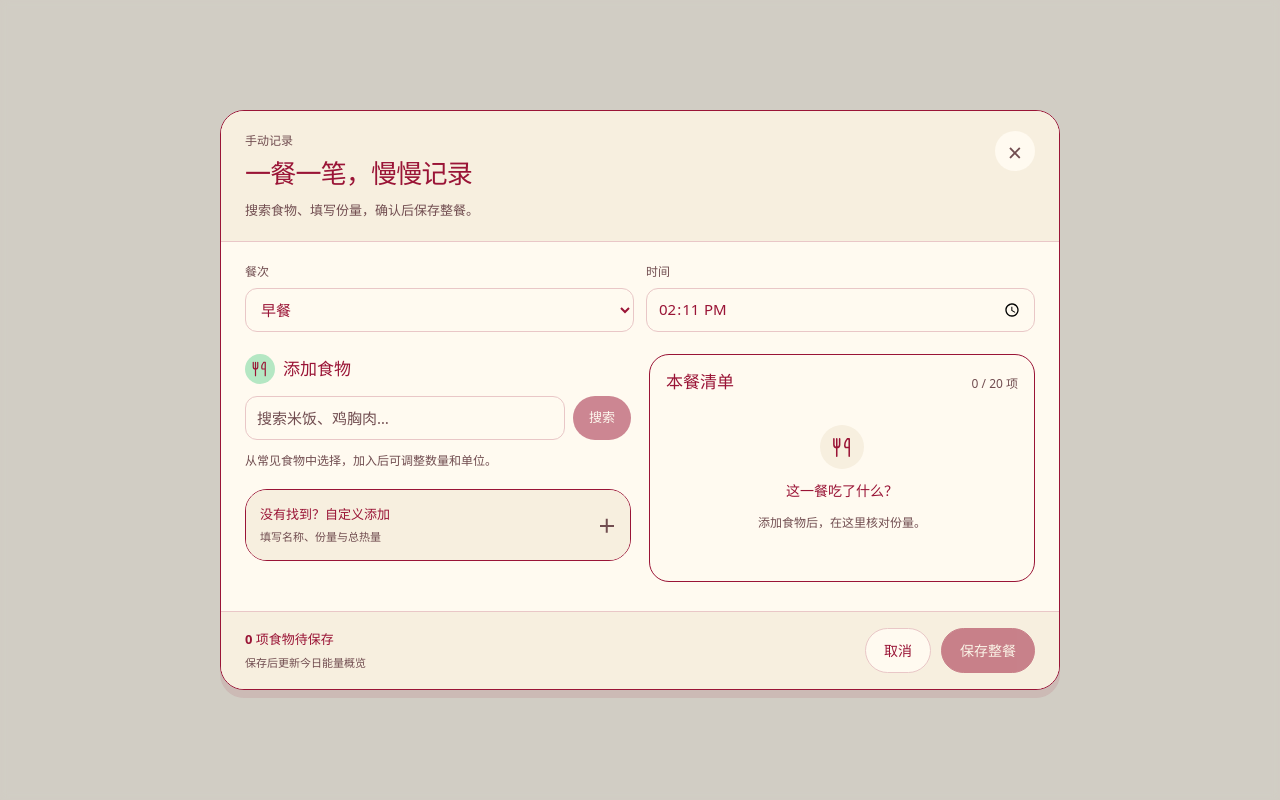
Test: ignores stale food searches and distinguishes no results from a failed search
In the field with placeholder "搜索米饭、鸡胸肉…": (405, 418) 245,396 -> 565,440, type "旧名称"
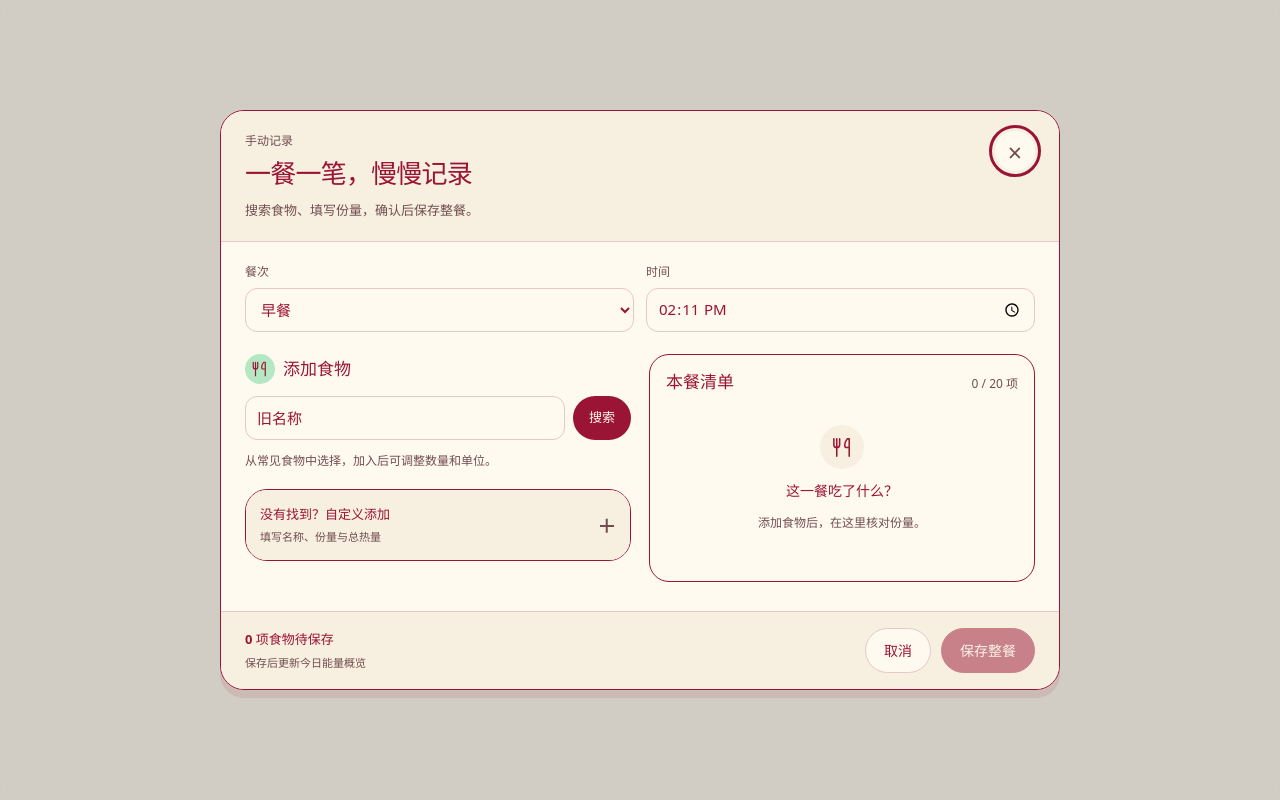
Submit the form, box 245,396 -> 631,440
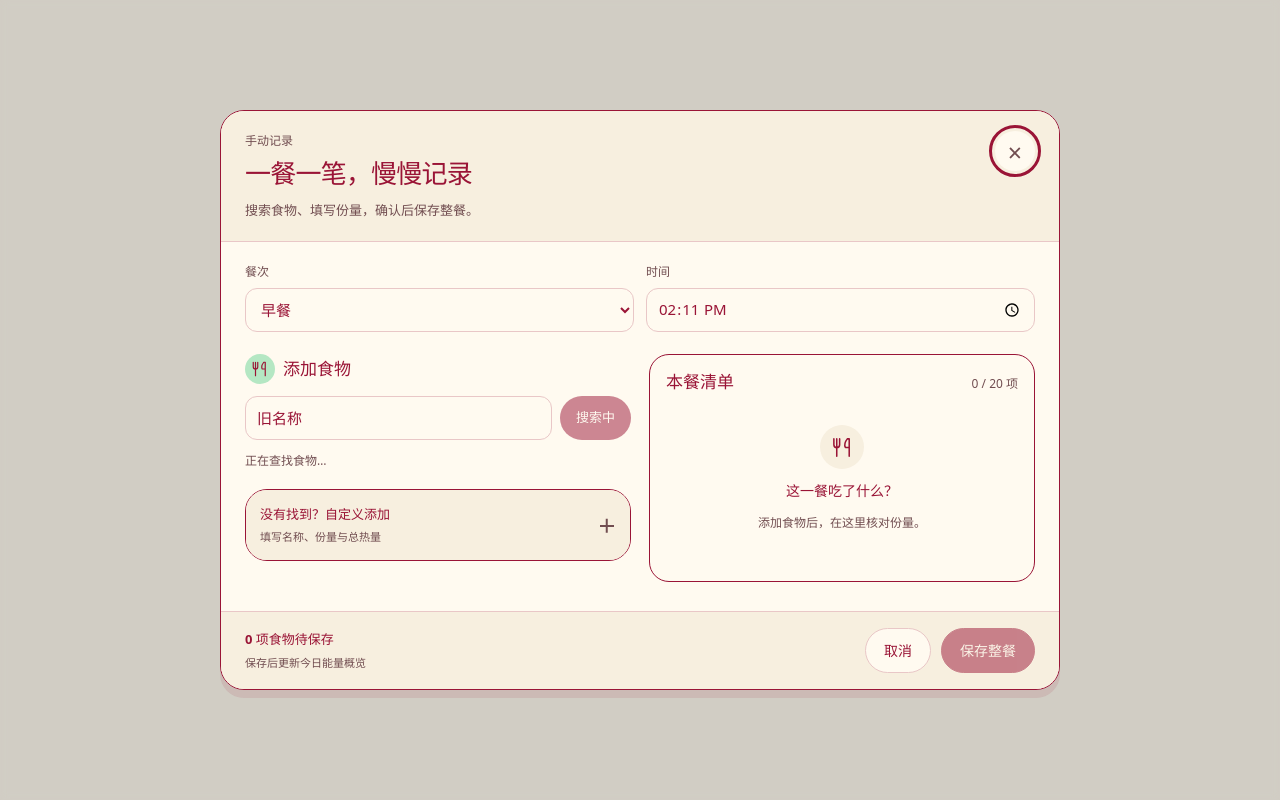
Replace the text in the field named "搜索食物" with "新名称": (398, 418) 245,396 -> 552,440
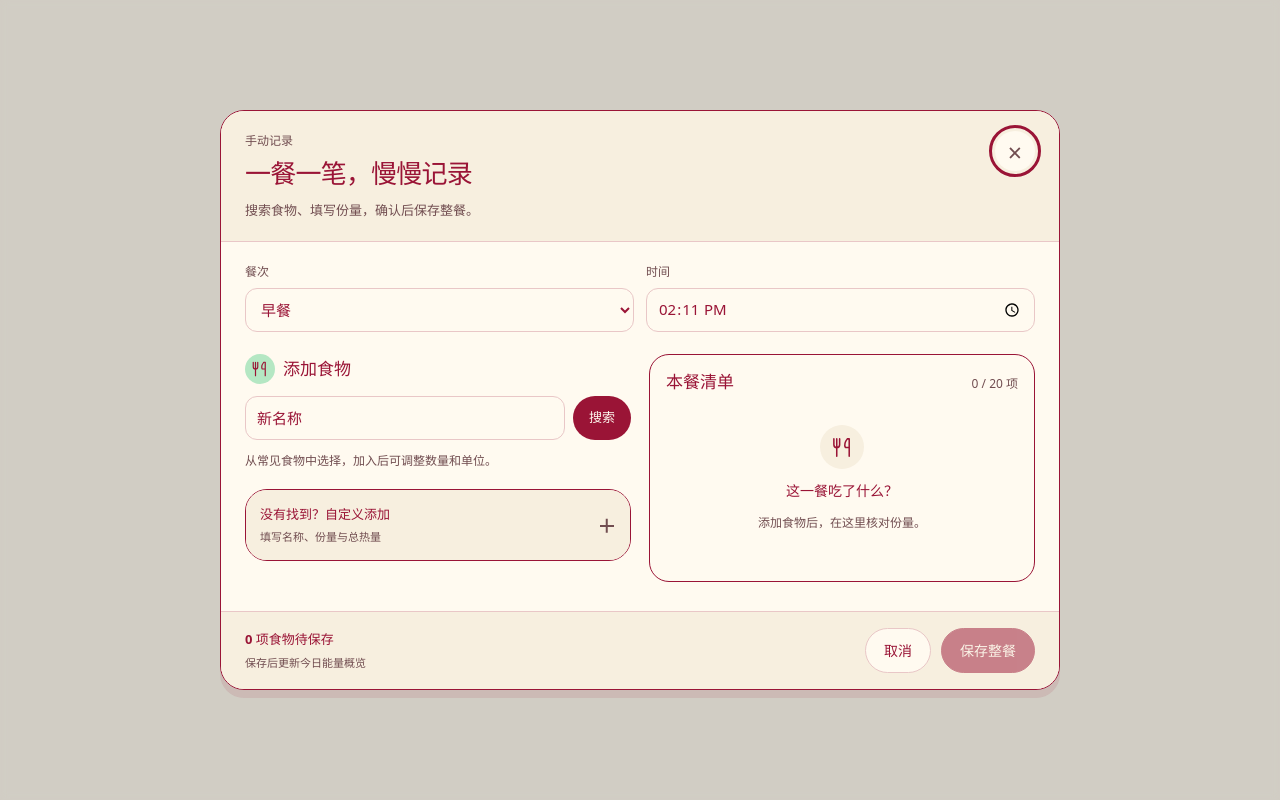
Submit the form, box 245,396 -> 631,440
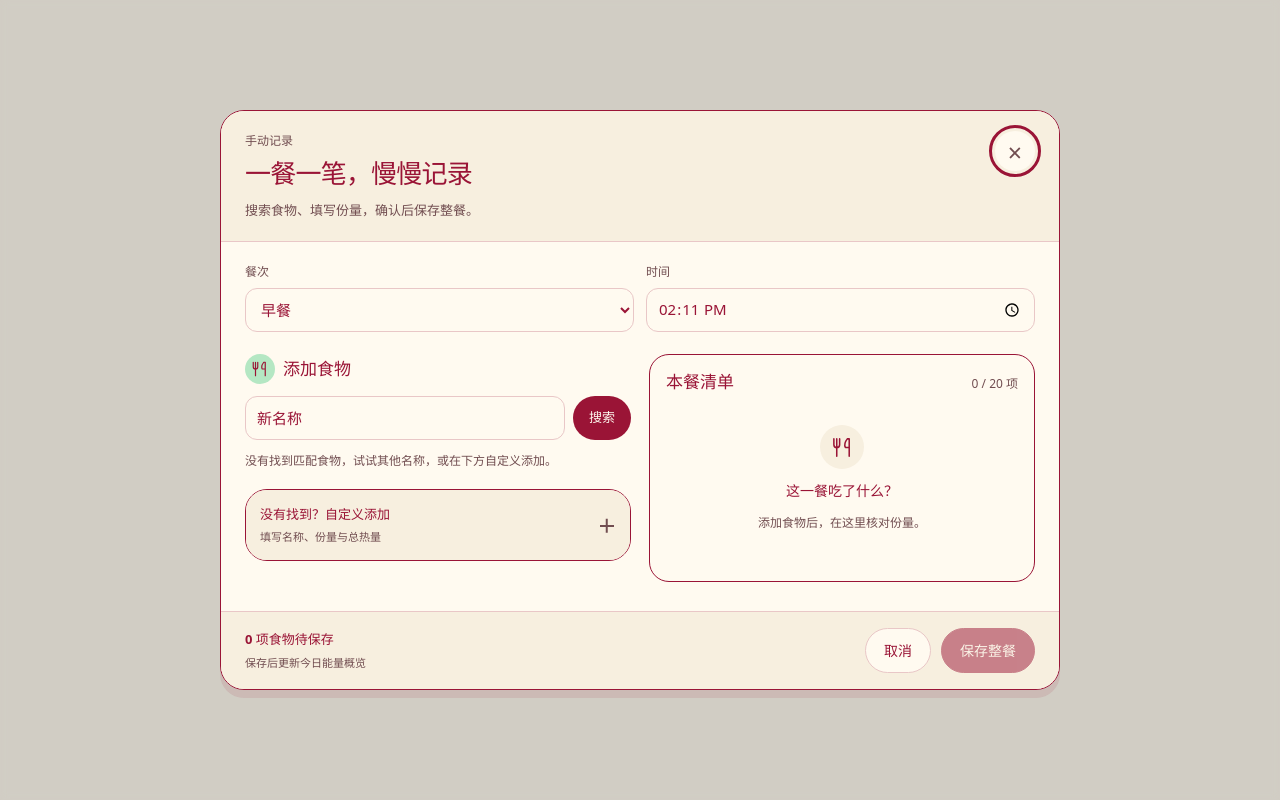
expect the message with class "search-message" shows "没有找到匹配食物": met, box 245,452 -> 557,469
Submit the form, box 245,396 -> 631,440
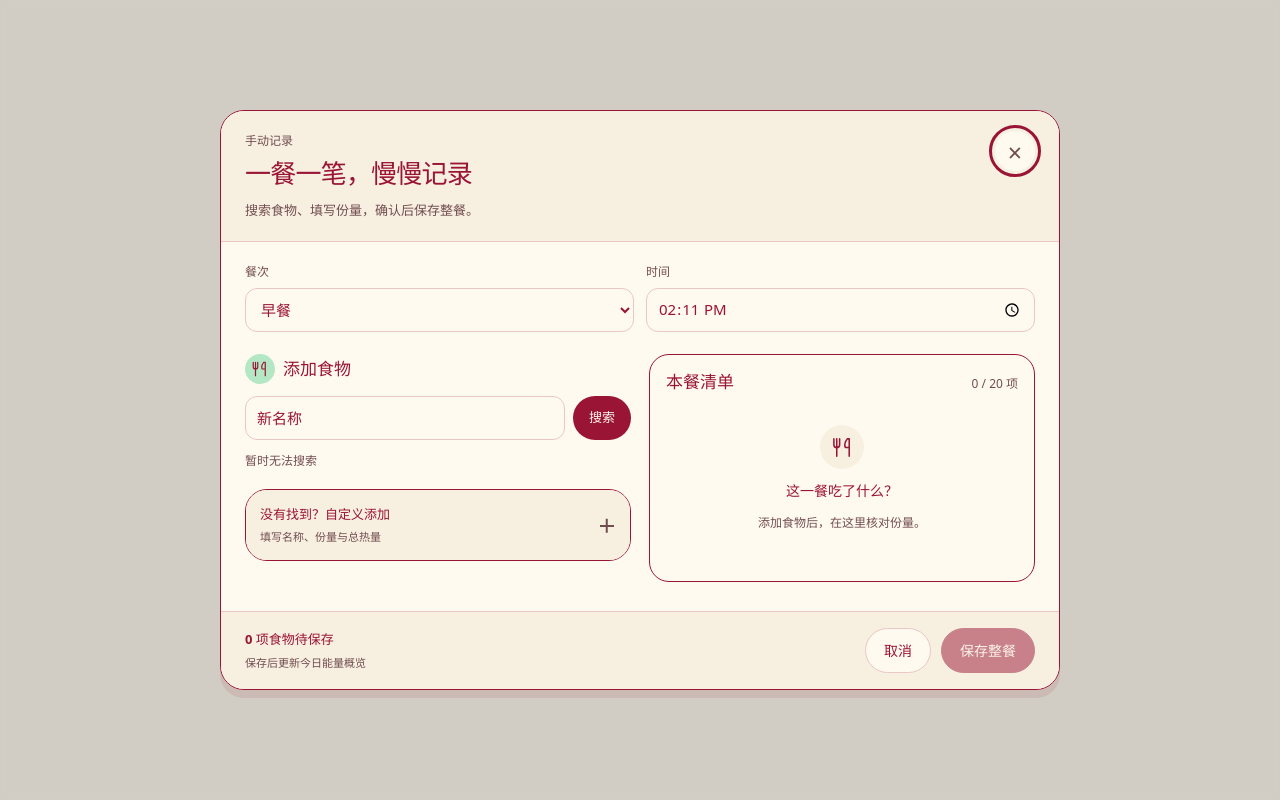
expect the message with class "search-message" reads "暂时无法搜索": met, box 245,452 -> 317,469
